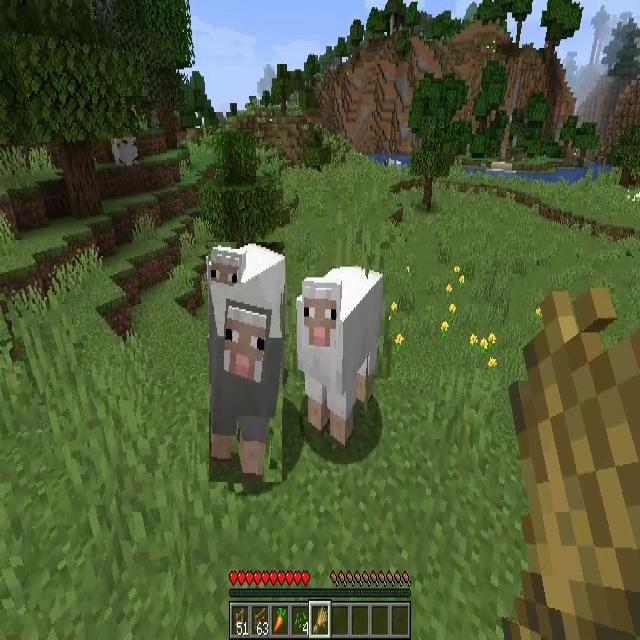flower: (396, 332, 404, 352), (468, 334, 478, 347), (488, 332, 496, 346), (480, 338, 488, 351), (441, 323, 450, 334), (390, 300, 397, 314), (488, 359, 496, 371), (448, 304, 456, 316), (446, 283, 452, 294), (458, 276, 464, 287), (453, 266, 460, 274)
sheep: (297, 260, 383, 446), (209, 284, 282, 482), (208, 242, 285, 316)
